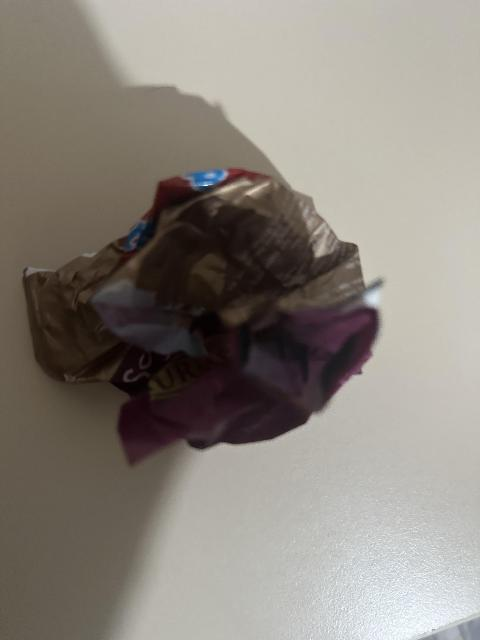Plastik: (19, 162, 378, 459)
